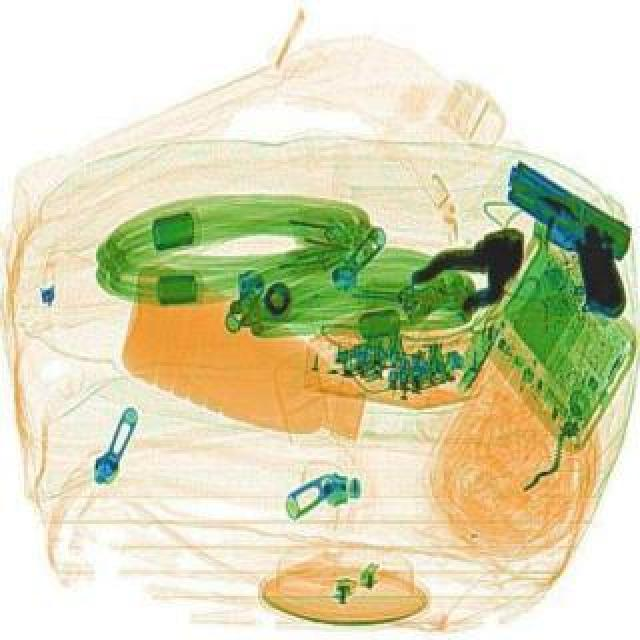gun: (462, 158, 638, 304)
